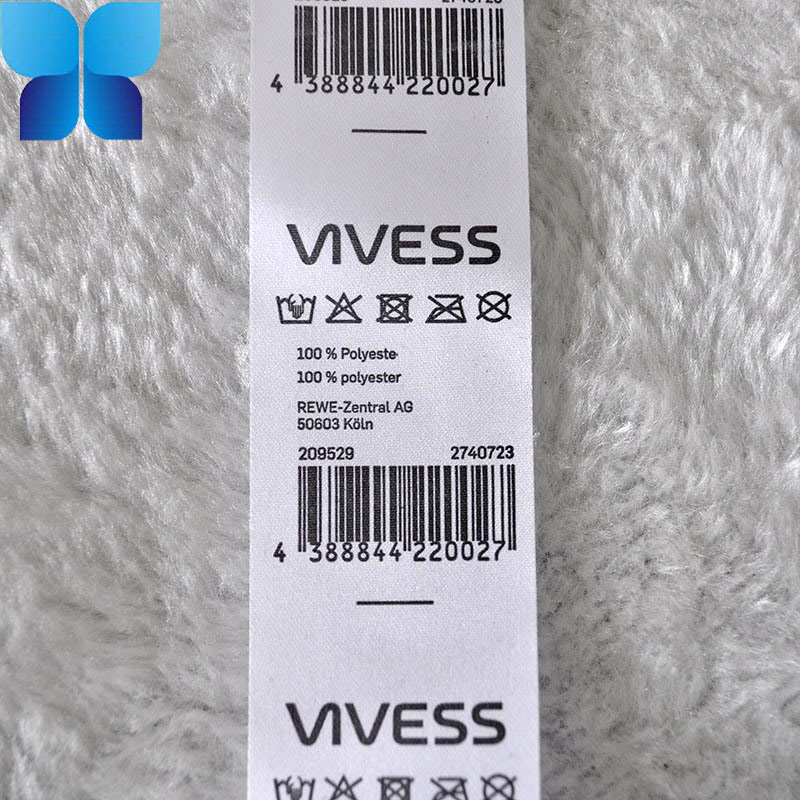ER_hand_wash: (270, 286, 319, 327)
ER_no_bleach: (324, 287, 366, 327)
ER_no_dry_clean: (473, 284, 516, 327)
ER_no_iron: (423, 289, 468, 328)
ER_no_tumble_dry: (373, 287, 415, 326)
